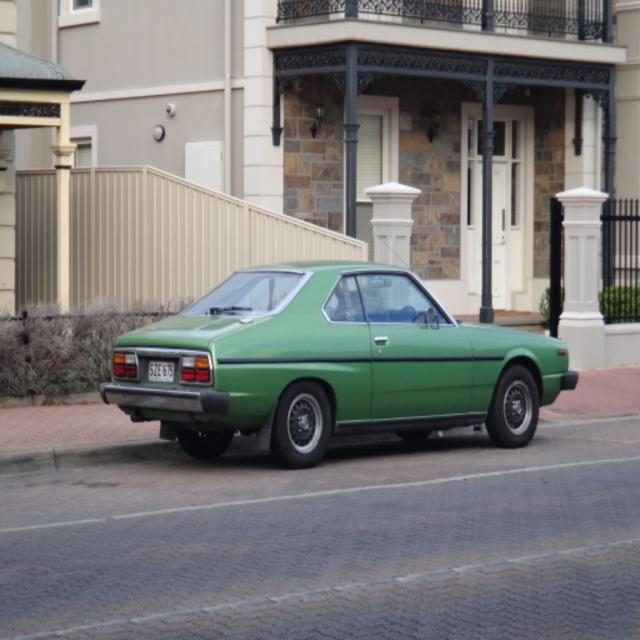car: (87, 255, 579, 468)
